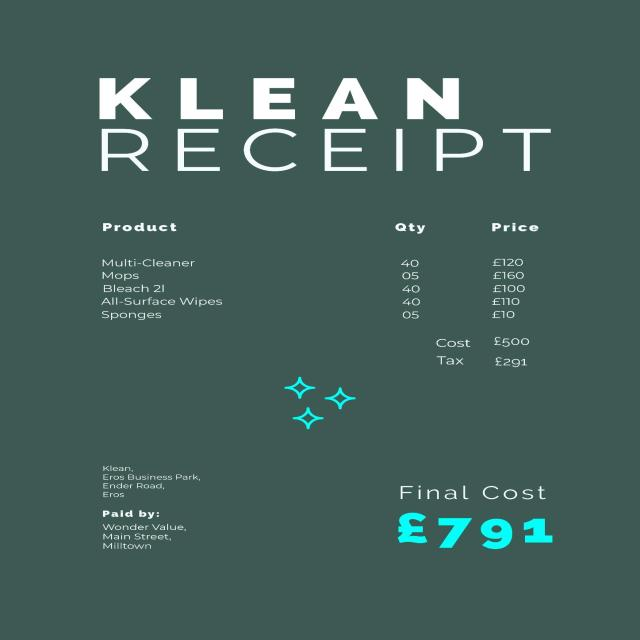paragraph: (88, 124, 566, 182), (83, 62, 489, 123), (387, 472, 565, 553), (83, 455, 209, 502), (420, 331, 544, 374), (90, 507, 198, 556)
table: (95, 216, 549, 326)
